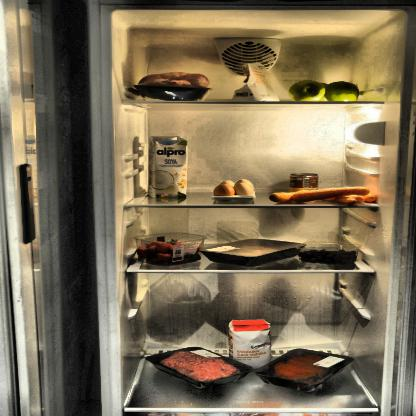apple: (289, 78, 360, 102)
beef: (271, 350, 339, 386)
blueberries: (307, 249, 356, 266)
carrot: (270, 187, 378, 205)
chicken: (136, 72, 210, 102), (212, 243, 282, 264)
corn: (290, 173, 318, 195)
eggs: (212, 179, 258, 200)
ground_beef: (157, 348, 239, 384)
milk: (148, 136, 188, 200)
strawberries: (135, 236, 202, 266)
